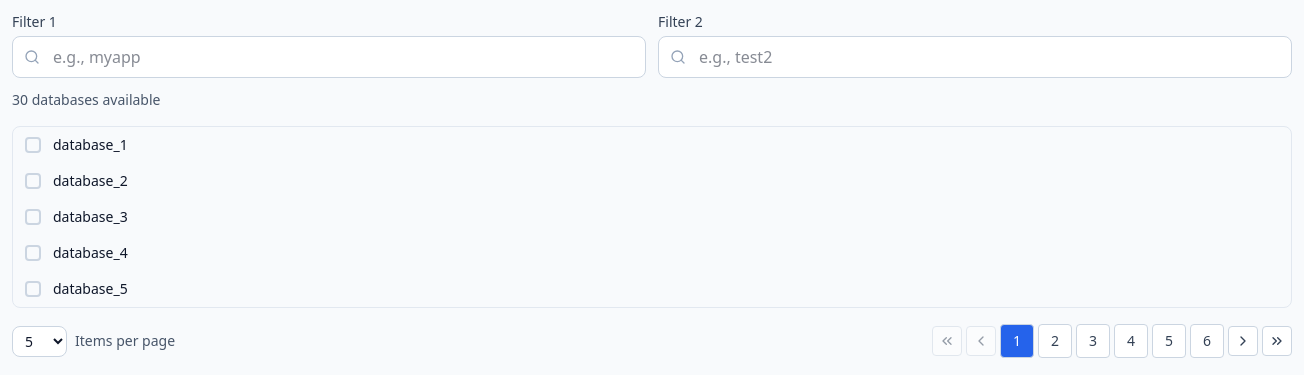
Test: DatabaseSelector - Pagination › should navigate to previous page
Expected: the text "database_1" is shown, [53,135,128,155]
// Go to page 2 first
Click the button named "Next page": (1243,341) [1228,326,1258,356]
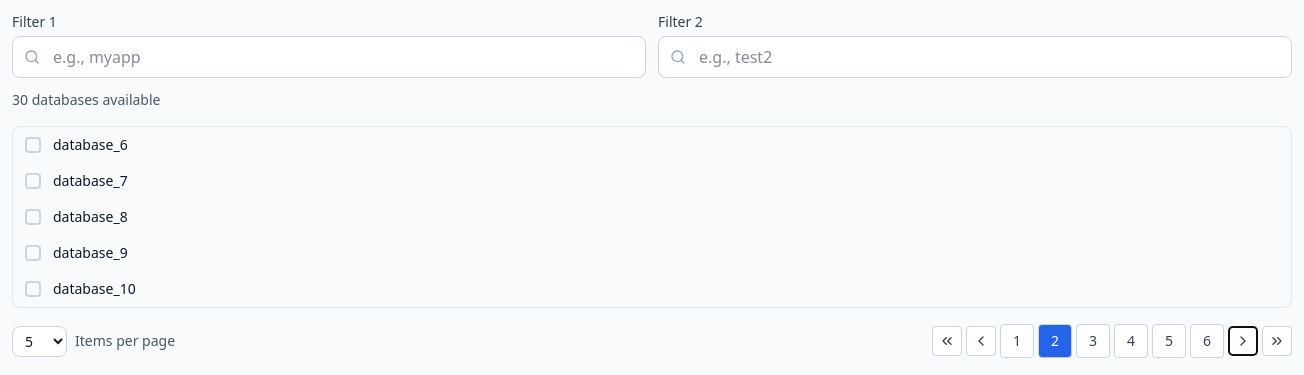
// Then go back
Click the button named "Previous page": (981,341) [966,326,996,356]
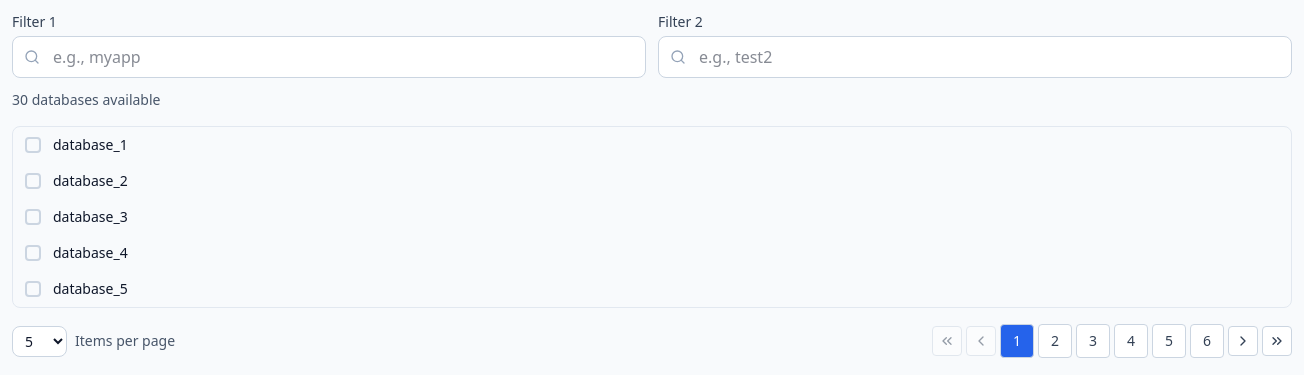
Result: the text "database_1" is shown at [53,135,128,155]
